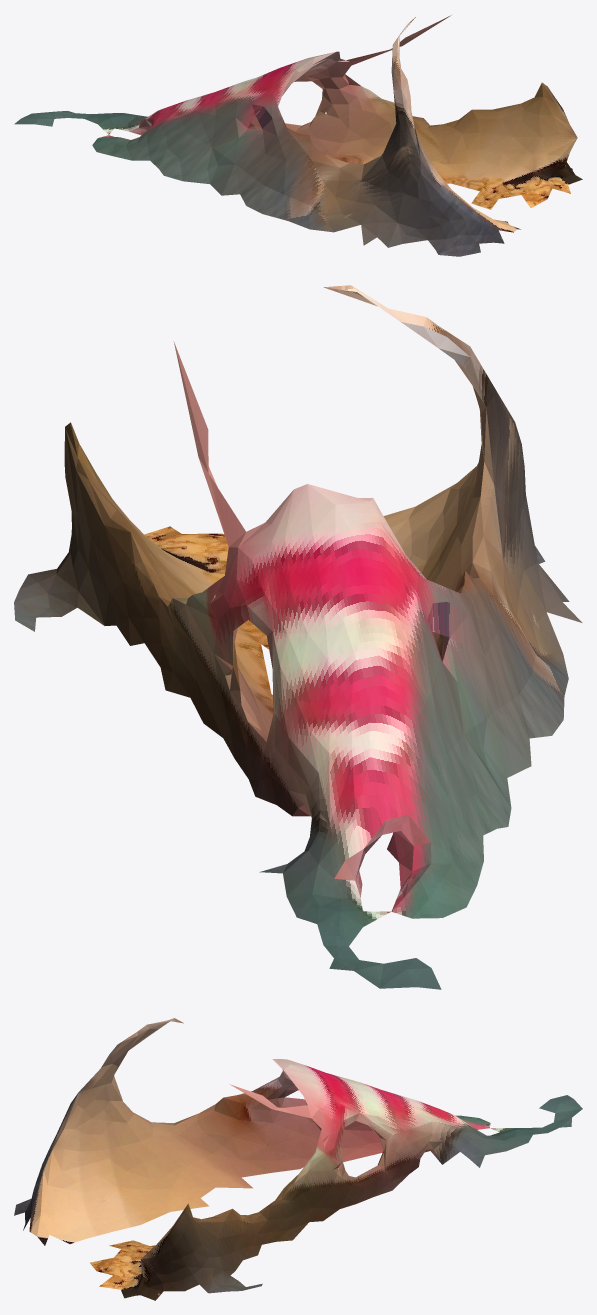
Rendered from oatmeal-cone.glb.
The picture shows the model from 3 angles, top to bottom: view 1: azimuth 30°, elevation 25°; view 2: azimuth 150°, elevation 25°; view 3: azimuth 270°, elevation 25°; orthographic projection. The views are drawn at different scales.
Parts seen in each view (by area): view 1: Mesh_0.007; view 2: Mesh_0.007; view 3: Mesh_0.007.
Boxes of the visible parts, box(x1,y1,x2,y2) form: Mesh_0.007: box(14, 15, 582, 256); Mesh_0.007: box(14, 285, 582, 989); Mesh_0.007: box(14, 1018, 582, 1300).
Bounding box in the file's own units: 0.2286 × 0.1044 × 0.2687.
Materials: 1 (1 with a texture image).
